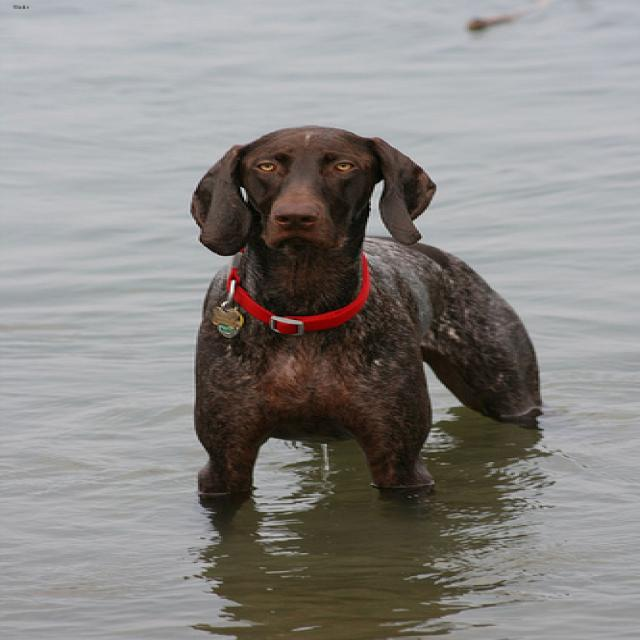dog-german_shorthaired: (173, 118, 555, 515)
